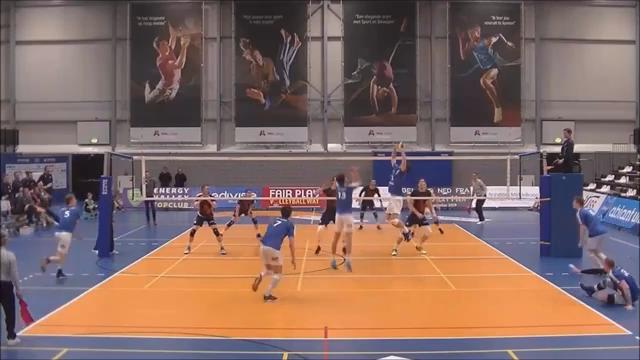alzata: (383, 137, 417, 245)
